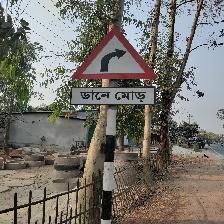Right-turn: (69, 25, 159, 109)
